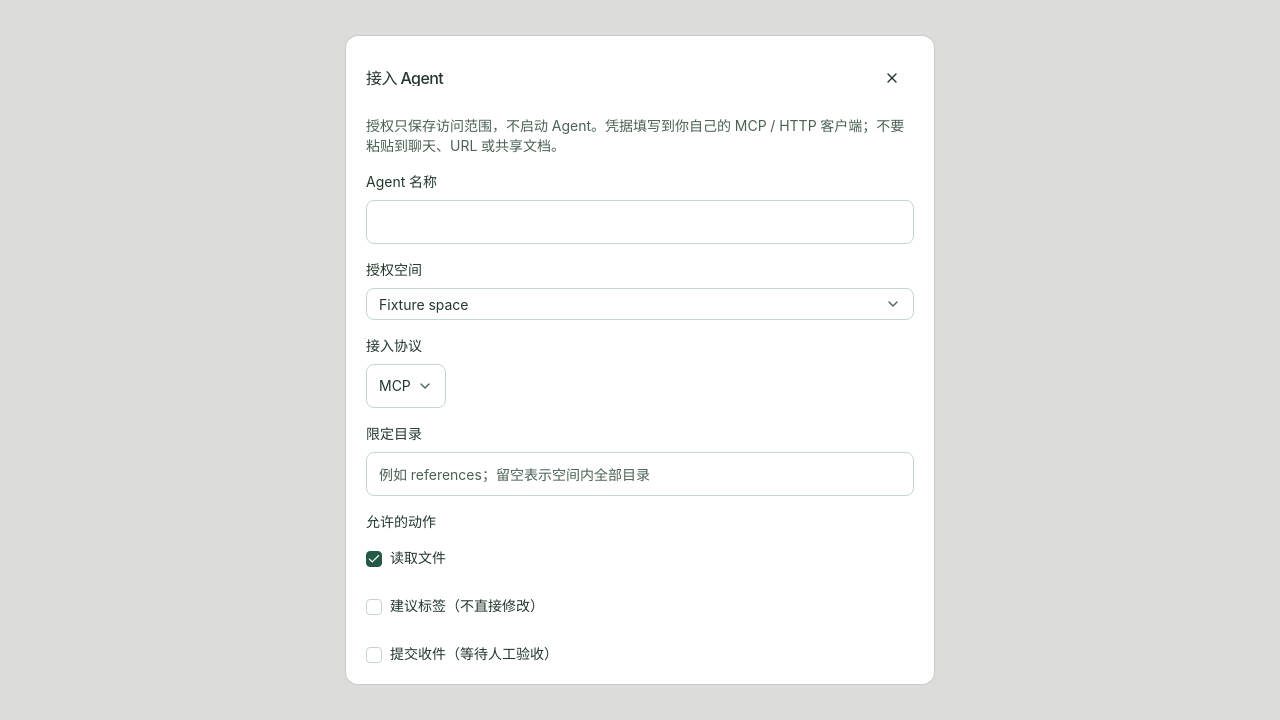
Scenario: clears a delivered secret on scope change and discards late delivery
Type "Reader" into the field labelled "Agent 名称" at (640, 222), box [366,200,914,244]
(page scrolled)
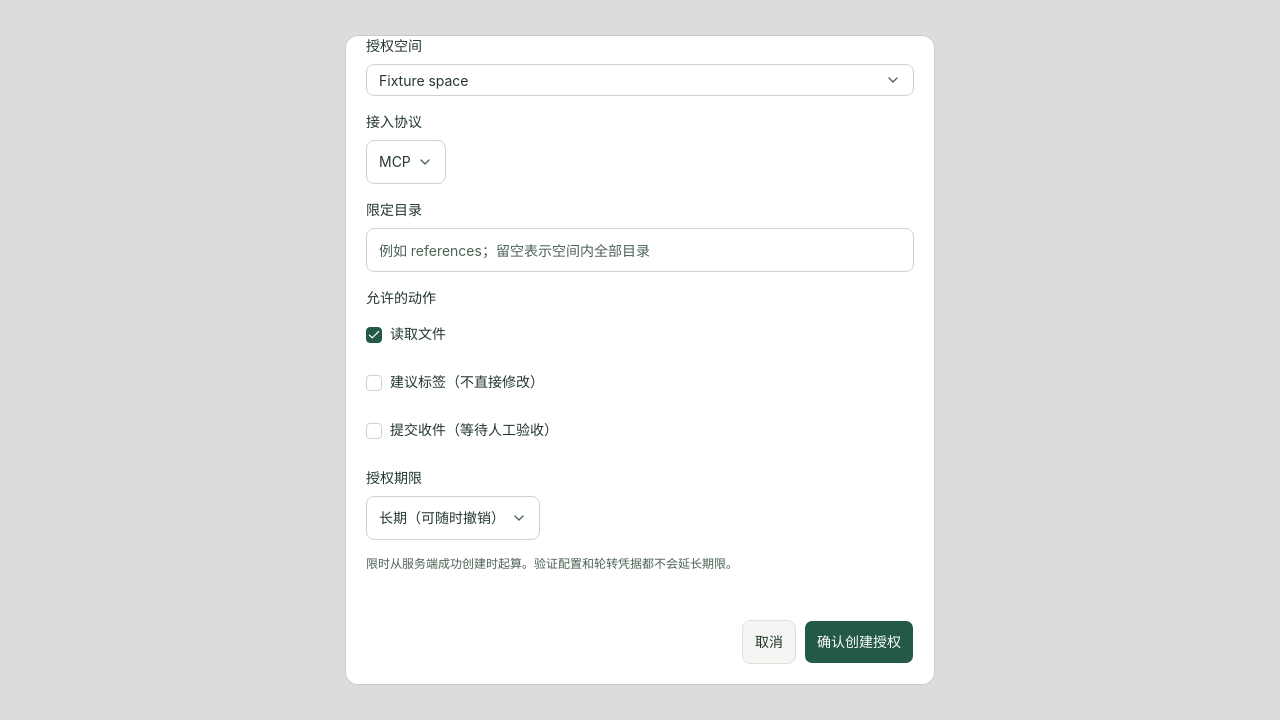
Click the button "确认创建授权" at (859, 642), box [804,620,914,664]
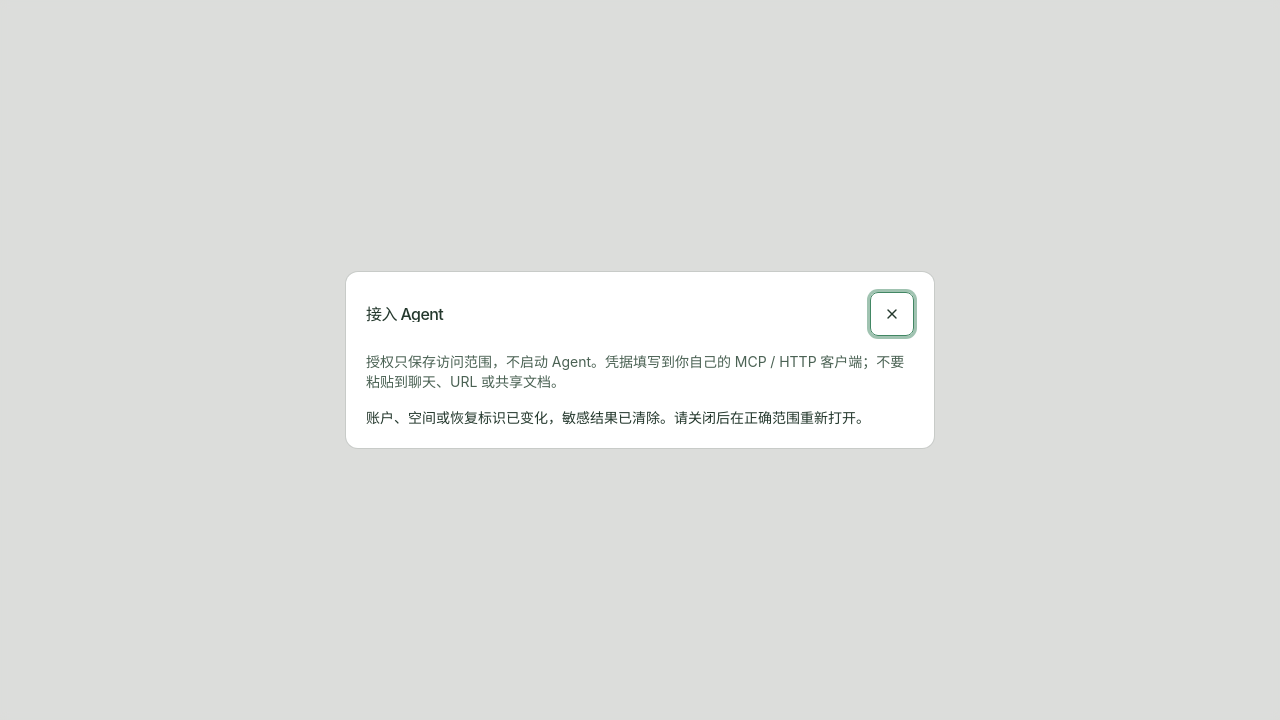
Expected: the text "账户、空间或恢复标识已变化，敏感结果已清除。请关闭后在正确范围重新打开。" is shown, [366,408,914,428]
